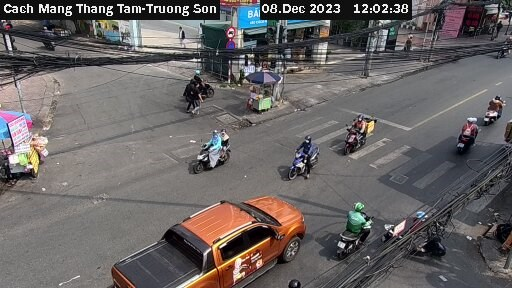car: (107, 191, 313, 286)
motorbike: (181, 128, 238, 171), (279, 138, 336, 178), (463, 88, 508, 130), (332, 210, 371, 247), (335, 114, 378, 147), (437, 125, 477, 159)
